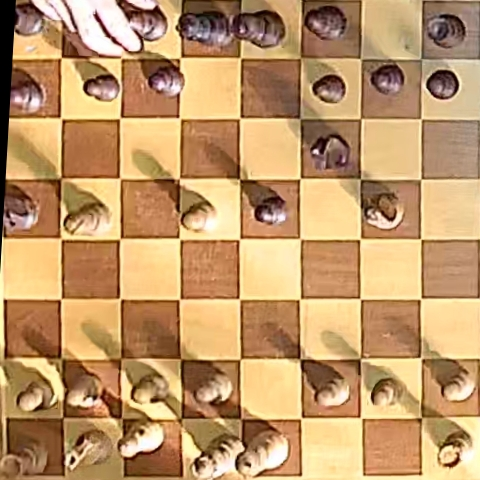black-bishop: (304, 5, 347, 40), (125, 6, 168, 41)
black-king: (179, 11, 235, 46)
black-knight: (4, 184, 40, 233), (310, 135, 350, 170)
black-pawn: (148, 65, 185, 97), (10, 79, 44, 113), (370, 64, 405, 95), (426, 69, 459, 99), (312, 75, 346, 104), (84, 74, 120, 101), (255, 198, 287, 225)
black-queen: (233, 11, 284, 47)
black-rook: (426, 14, 466, 48), (14, 3, 44, 36)
white-bishop: (118, 421, 163, 458), (65, 201, 112, 236)
white-king: (239, 431, 289, 477)
white-knight: (66, 429, 112, 471), (363, 190, 403, 230)
white-pawn: (193, 367, 233, 404), (66, 372, 101, 409), (17, 380, 55, 413), (131, 373, 170, 405), (441, 367, 476, 402), (316, 376, 351, 407), (182, 200, 216, 231), (371, 378, 400, 406)
white-queen: (191, 434, 244, 480)
white-rook: (2, 437, 48, 475), (438, 431, 473, 468)
